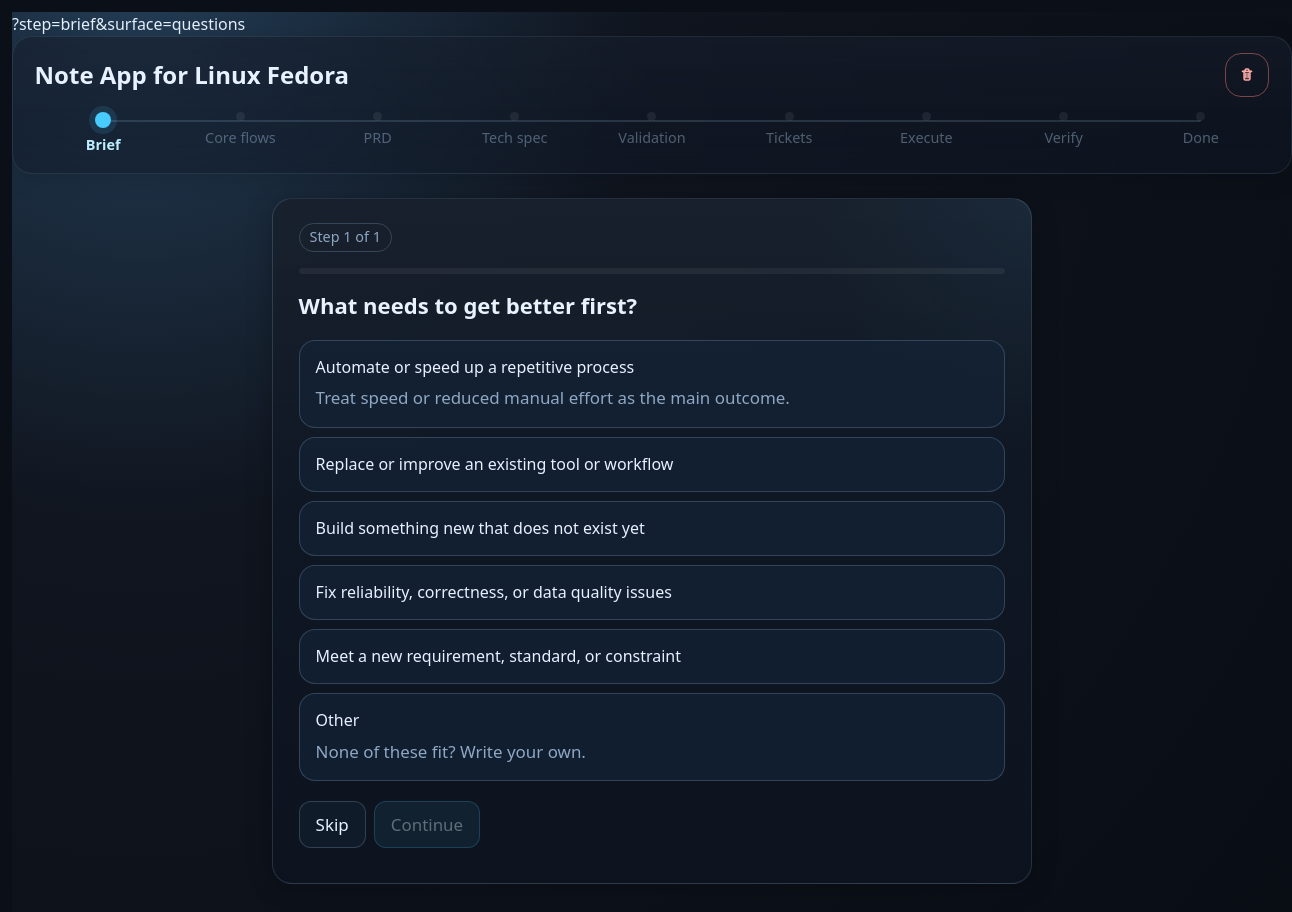
InitiativeView › shows a retry action instead of an empty survey shell when the completed brief re-check fails
Click the button "Automate or speed up a repetitive process" at coordinates (652, 384), box x1=299 y1=340 x2=1005 y2=428
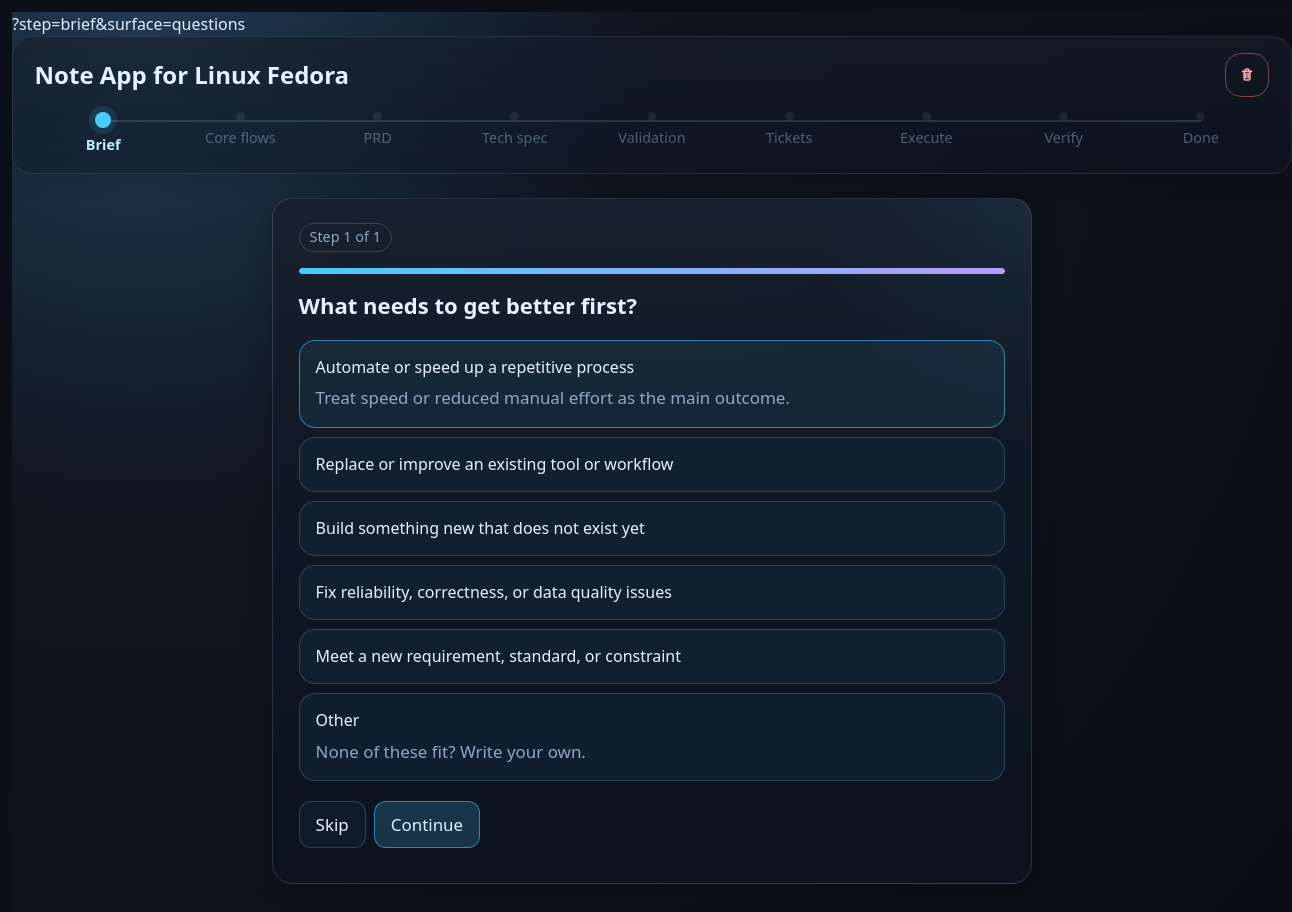
Click the button "Continue" at coordinates (427, 825), box x1=374 y1=801 x2=480 y2=848
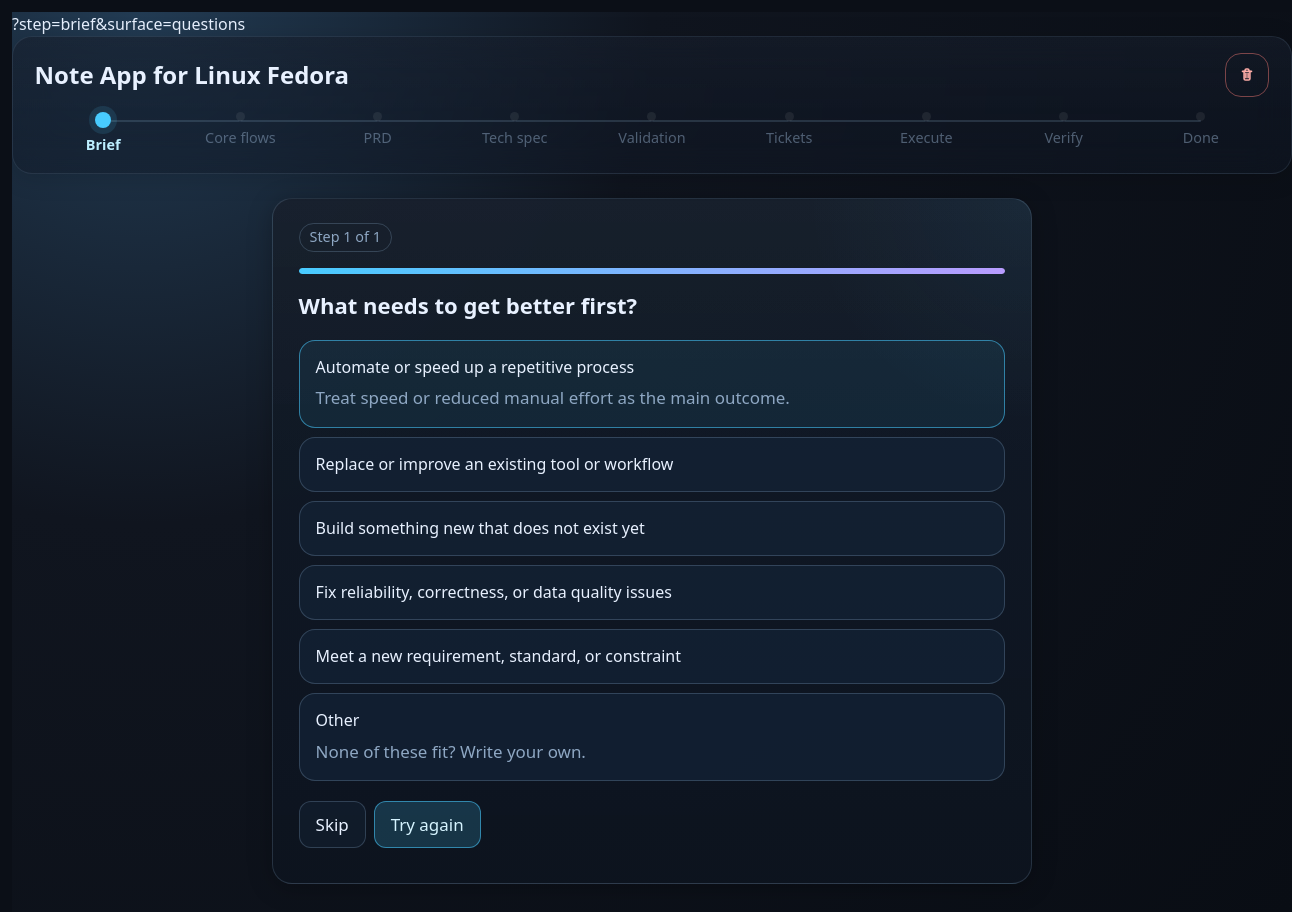
Expected: the heading "What needs to get better first?" is shown, x1=299 y1=290 x2=637 y2=320
Expected: the button "Try again" is shown, x1=374 y1=801 x2=481 y2=848
